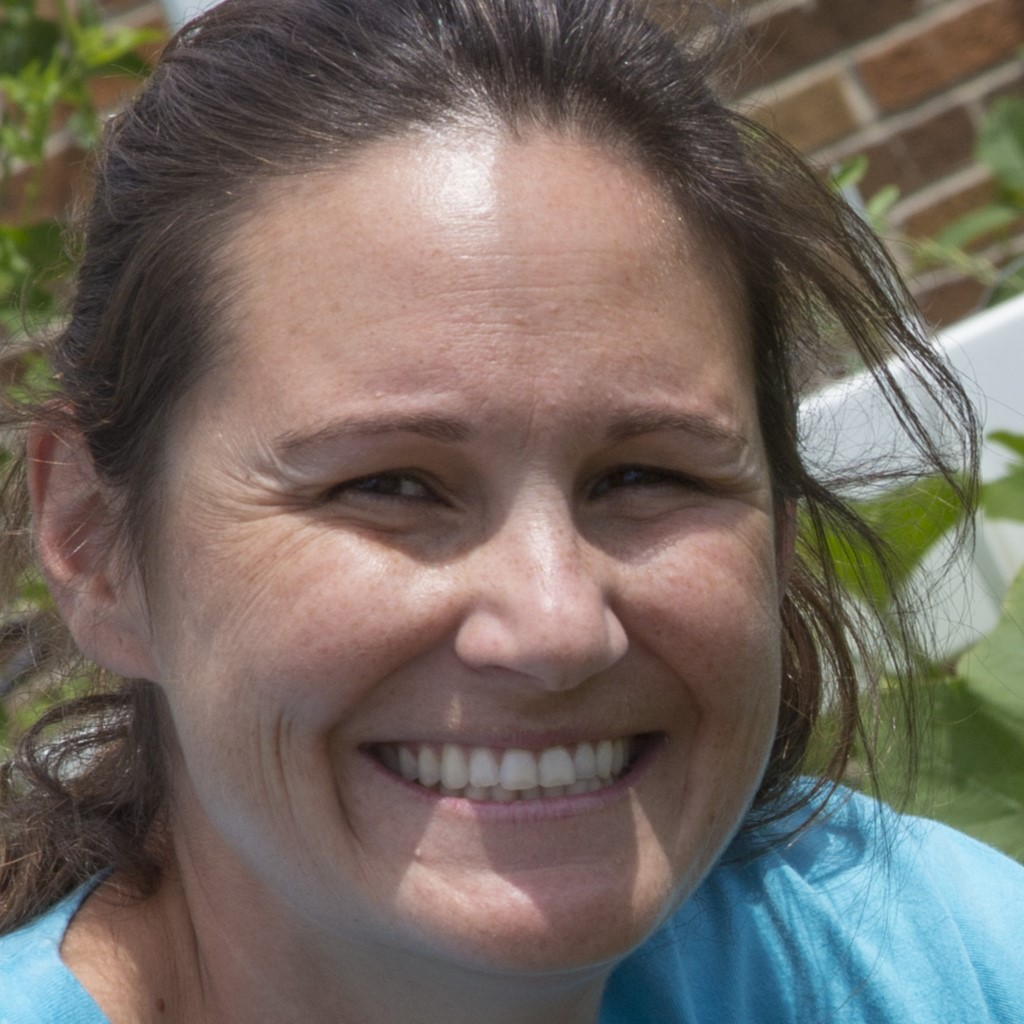sin_mascara: (149, 109, 830, 1003)
